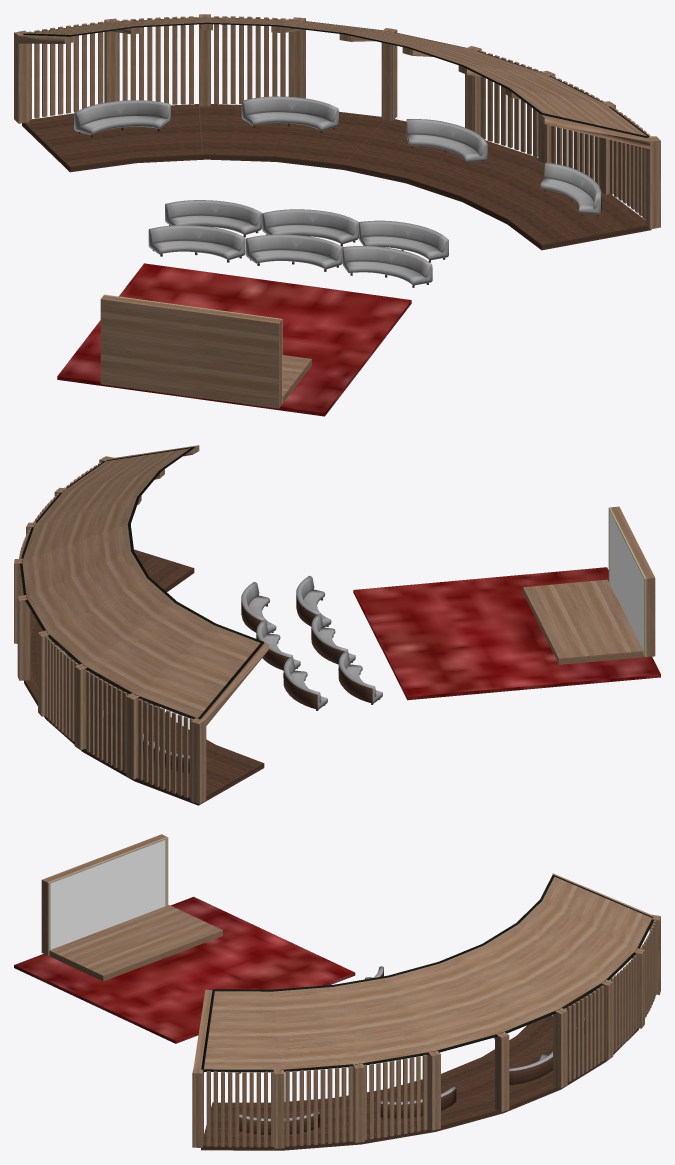
File: Beach_attach_Setup.fbx
The picture shows the model from 3 angles, top to bottom: view 1: azimuth 30°, elevation 25°; view 2: azimuth 150°, elevation 25°; view 3: azimuth 270°, elevation 25°; orthographic projection. The views are drawn at different scales.
Parts seen in each view (by area): view 1: Beach_Setup; view 2: Beach_Setup; view 3: Beach_Setup.
Boxes of the visible parts, left/top/right/bottom form: Beach_Setup: left=14, top=14, right=660, bottom=416; Beach_Setup: left=14, top=445, right=660, bottom=805; Beach_Setup: left=14, top=834, right=660, bottom=1150.
Size of the model in its own units: 3071 by 667 by 3306.
